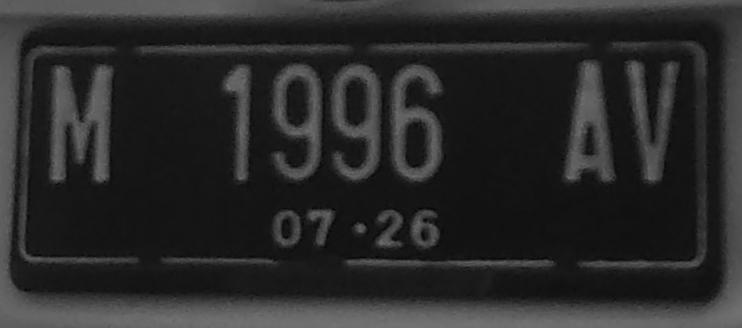1: (216, 61, 261, 191)
6: (386, 58, 451, 190)
9: (259, 60, 327, 190), (327, 59, 386, 191)
A: (562, 52, 619, 184)
M: (38, 58, 127, 194)
V: (622, 54, 686, 186)
